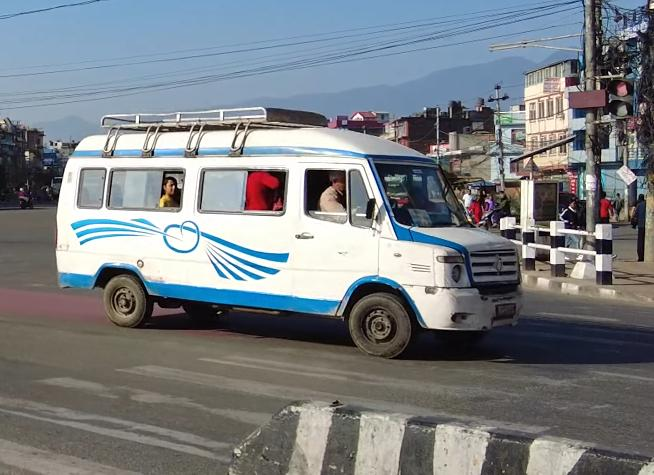micro_bus: (53, 101, 529, 373)
